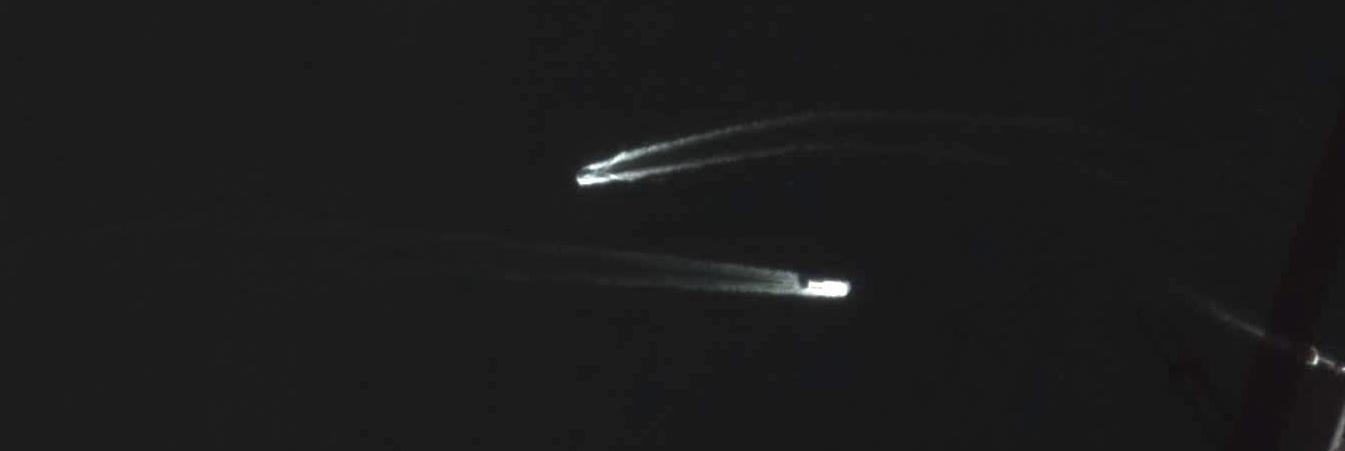person: (807, 279, 849, 298), (576, 166, 598, 179)
